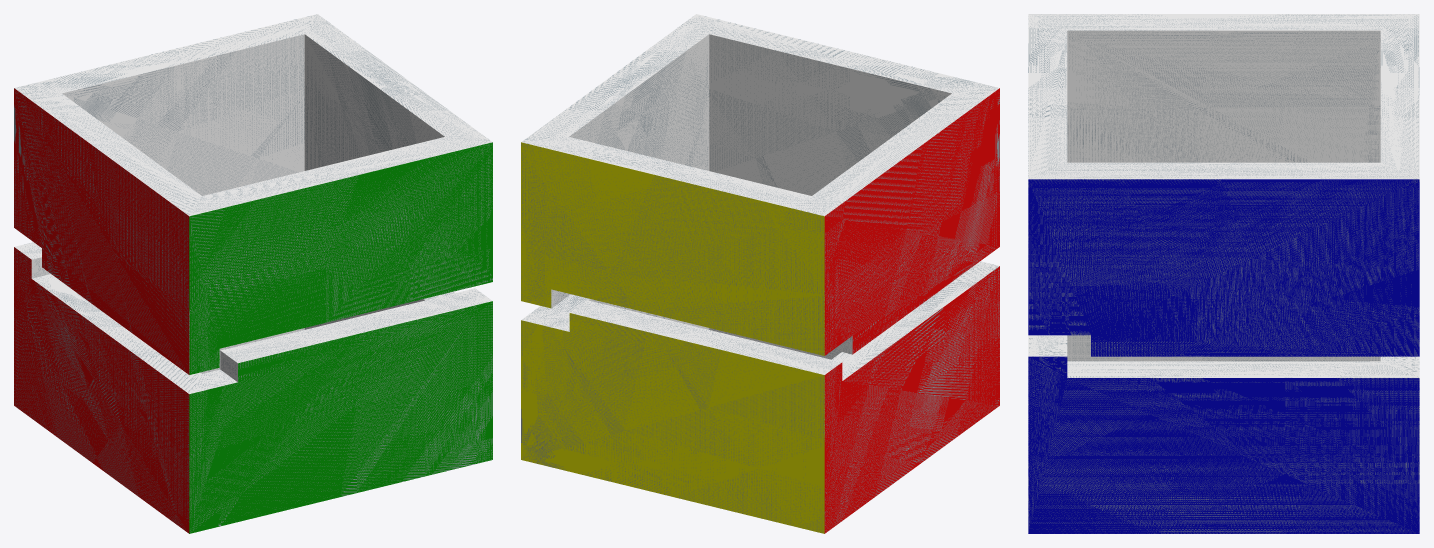
Rendered from SketchupCaixa.dae.
3 views of the same model, side by side, from view 1: azimuth 30°, elevation 25°; view 2: azimuth 150°, elevation 25°; view 3: azimuth 270°, elevation 25° (orthographic). The views are drawn at different scales.
Parts seen in each view (by area): view 1: SketchUp (×7); view 2: SketchUp (×7); view 3: SketchUp (×5).
Part boxes in pixels (x1,y1,x2,y2): SketchUp (×7): (14,14,492,533); SketchUp (×7): (521,14,999,533); SketchUp (×5): (1028,14,1419,533).
Size of the model in its own units: 19.69 by 19.69 by 19.69.
